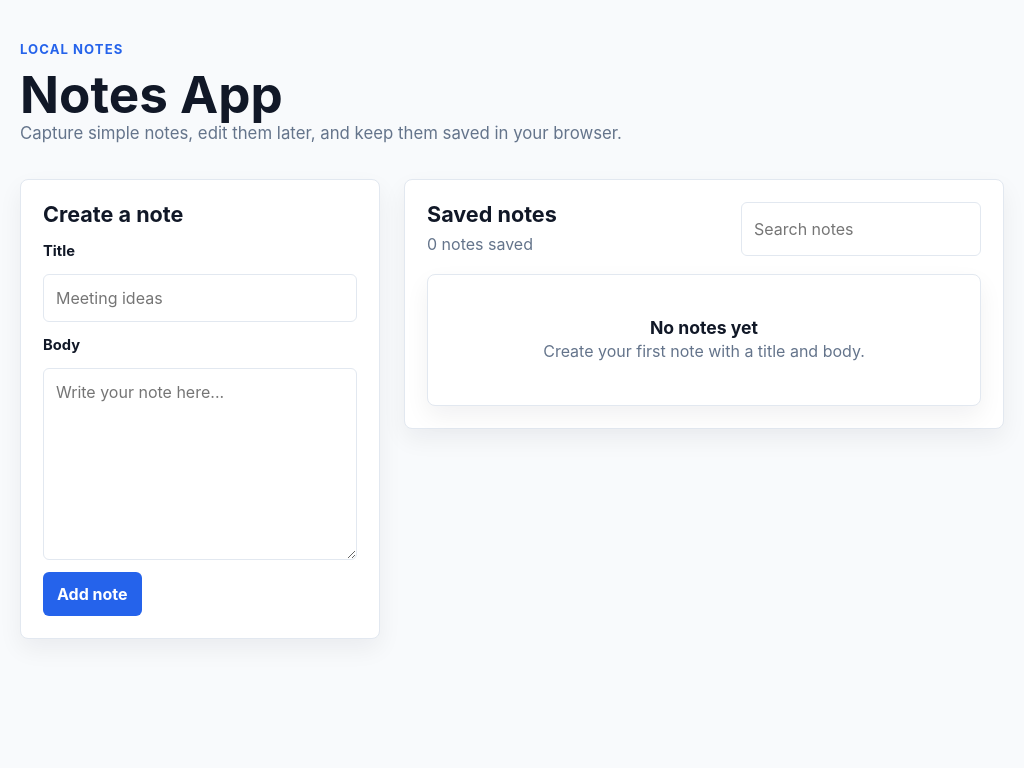
Test: Notes App › lets a user create a note
The image size is (1024, 768).
Type "Sprint ideas" into the field labelled "Title" at (200, 298), box [43,274,357,322]
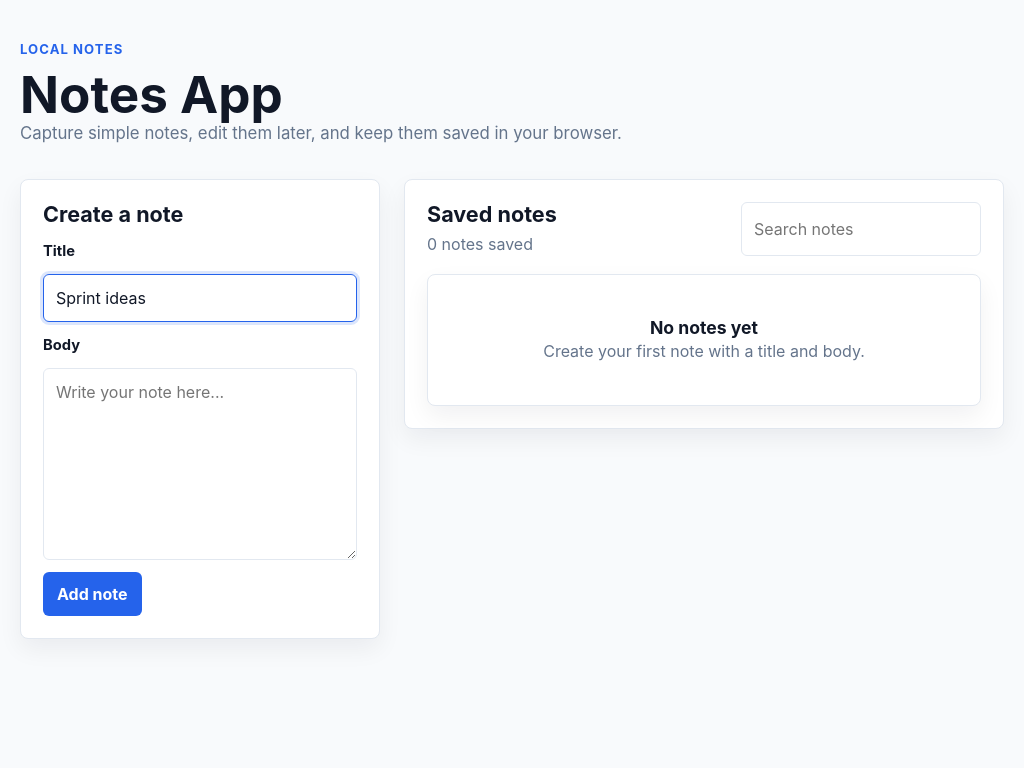
Type "Review the notes app flow." into the text box labelled "Body" at (200, 464), box [43,368,357,560]
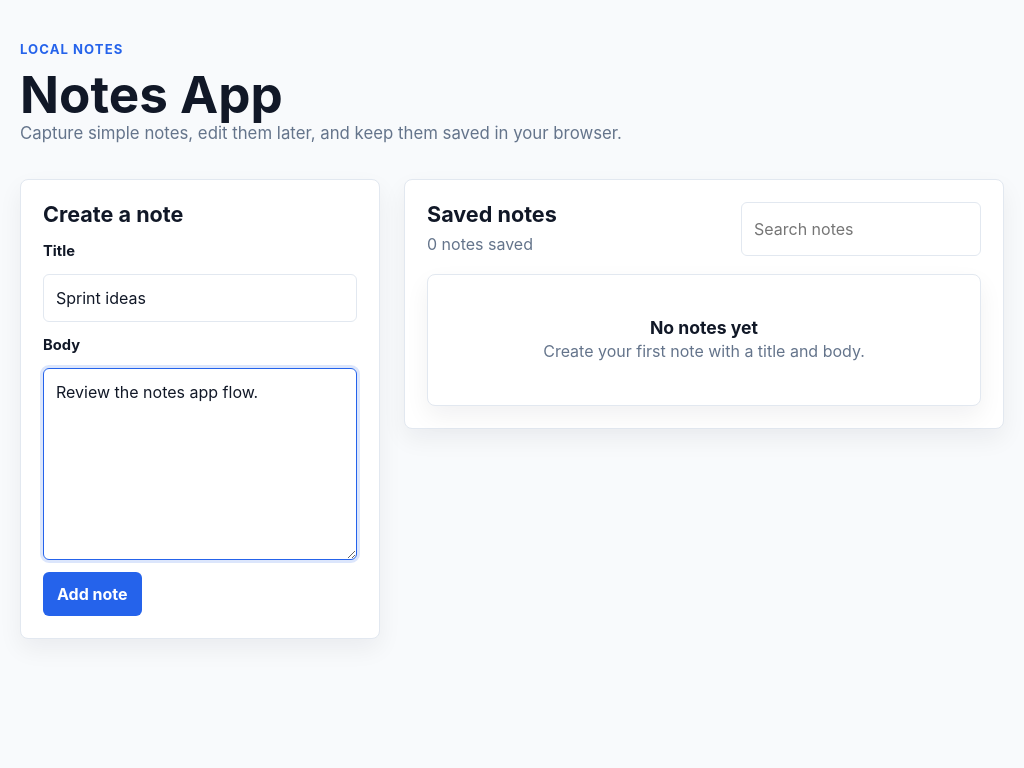
Click the button "Add note" at (92, 594), box [43,572,142,616]
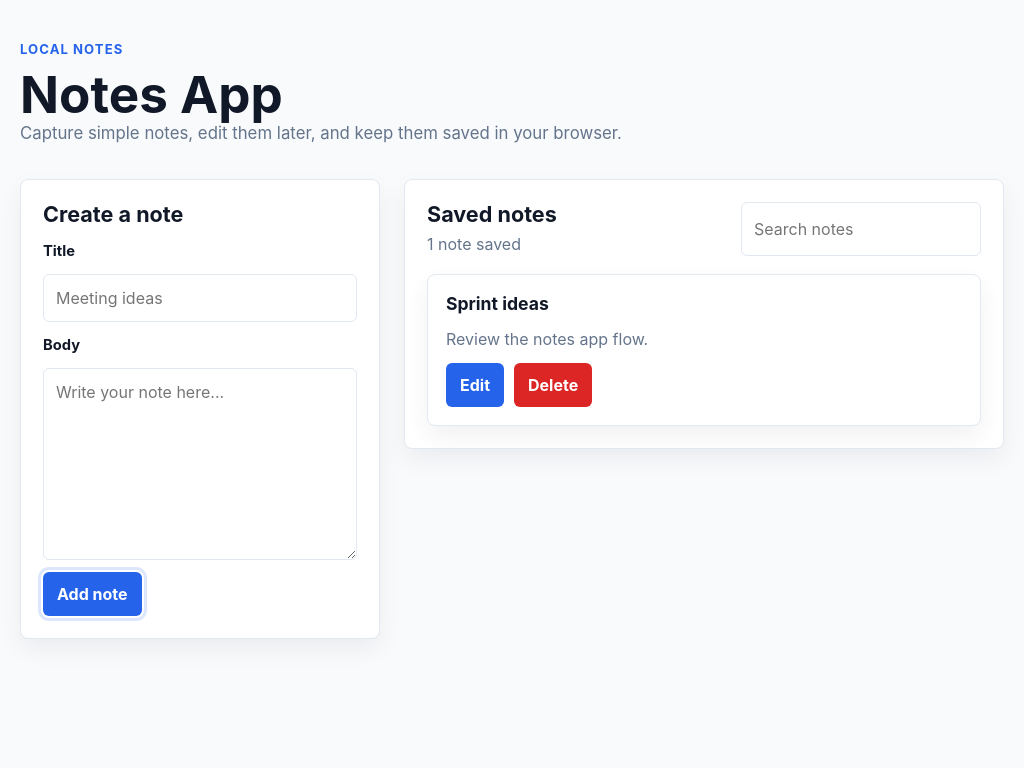
Result: the heading "Sprint ideas" is shown at [446,292,549,314]
Result: the text "Review the notes app flow." is shown at [446,329,648,349]
Result: the text "1 note saved" is shown at [427,234,521,254]
